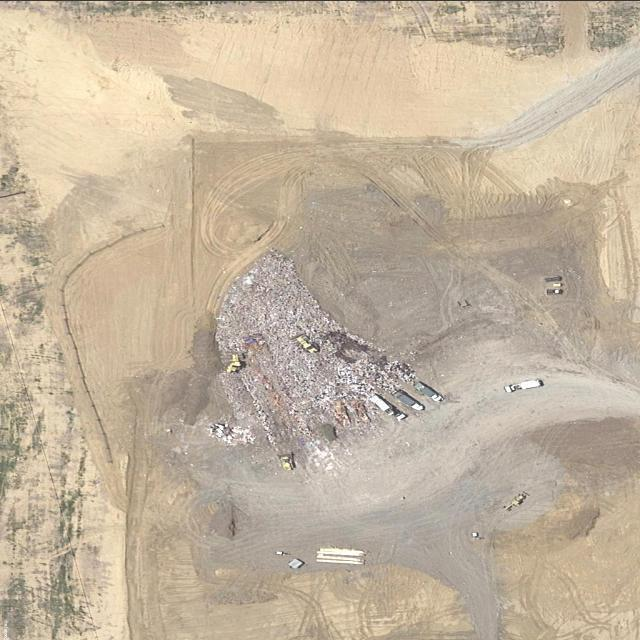dump_site: (165, 240, 421, 455), (205, 420, 259, 448)
